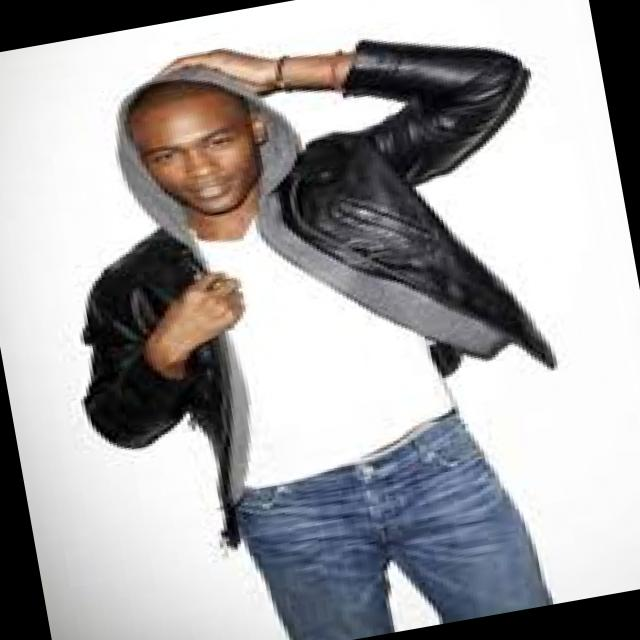Jacket: (17, 131, 601, 539)
